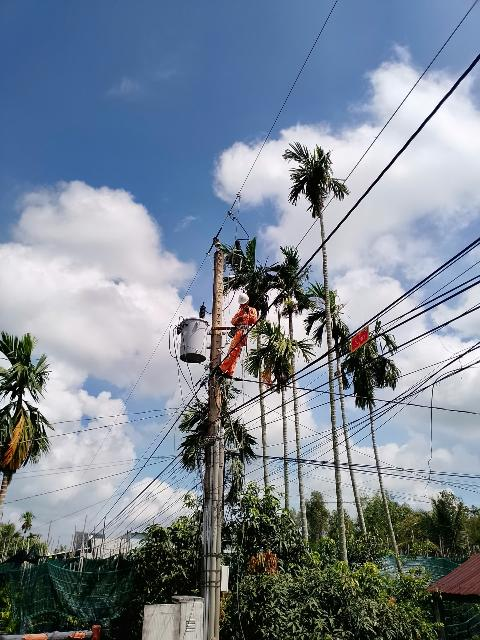gloves: (243, 304, 251, 315), (238, 316, 245, 323)
harness: (230, 324, 254, 331)
helmet: (237, 292, 252, 306)
shoes: (212, 365, 225, 376), (223, 370, 237, 379)
